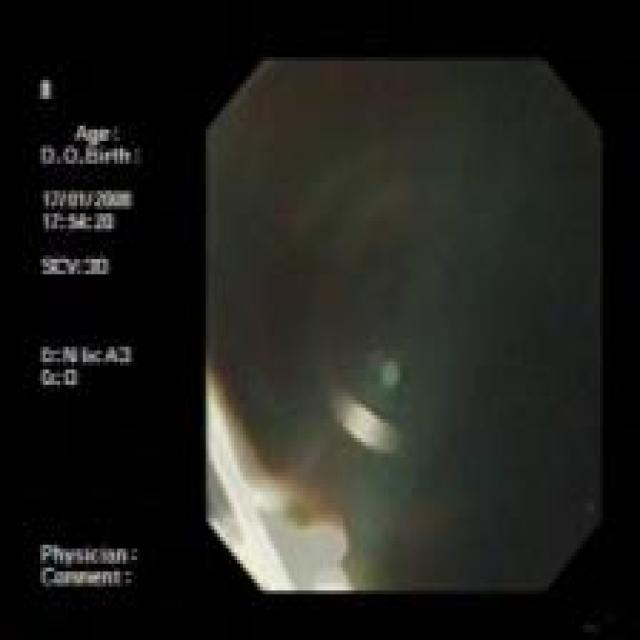color misalignment: (206, 59, 601, 591), (36, 77, 142, 592)
saturation: (210, 408, 303, 588)
